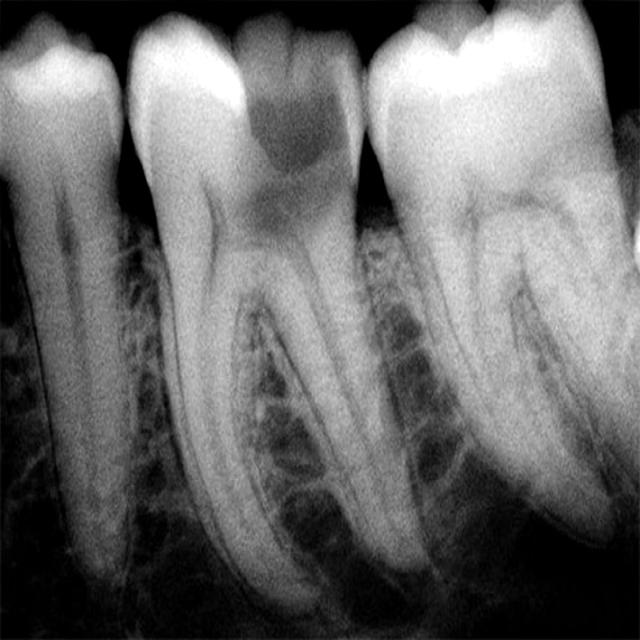Caries: (126, 11, 366, 616)
